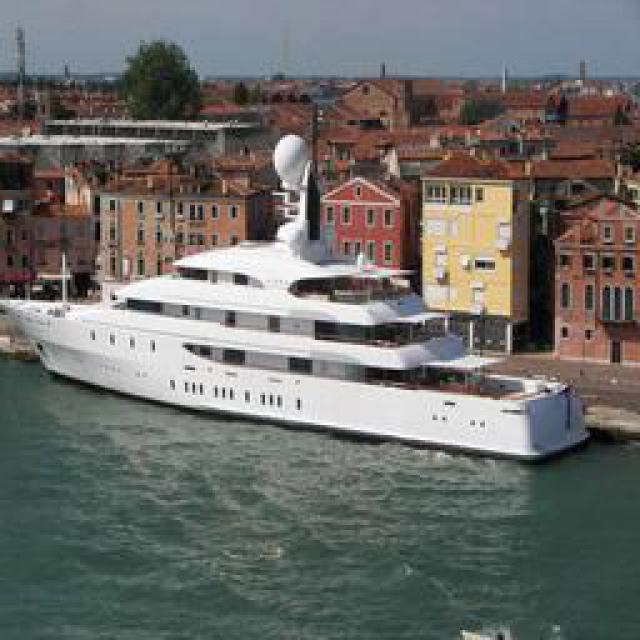Ship: (12, 251, 600, 464)
